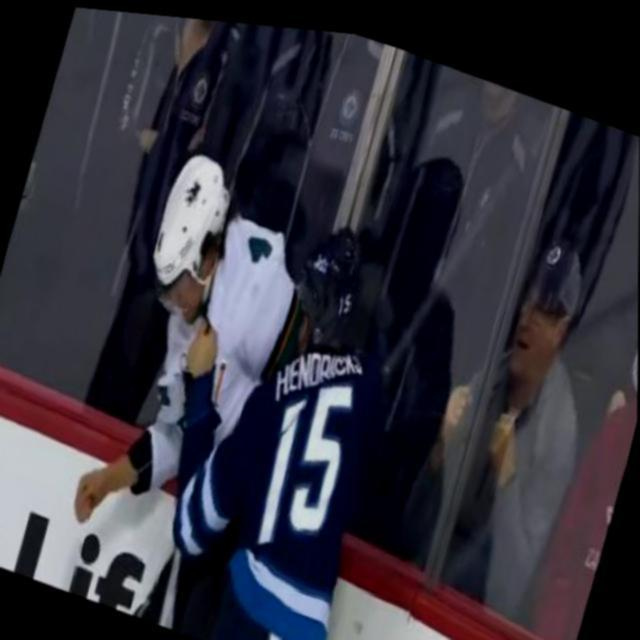fight: (46, 120, 446, 640)
